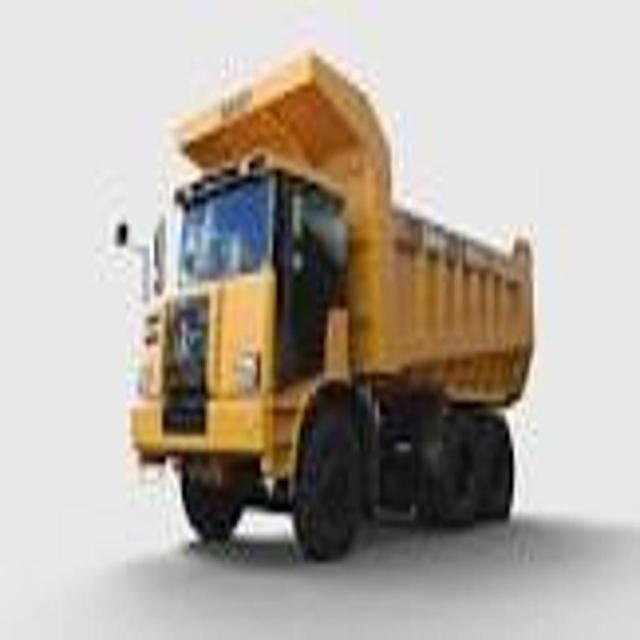dump_truck: (111, 53, 541, 562)
